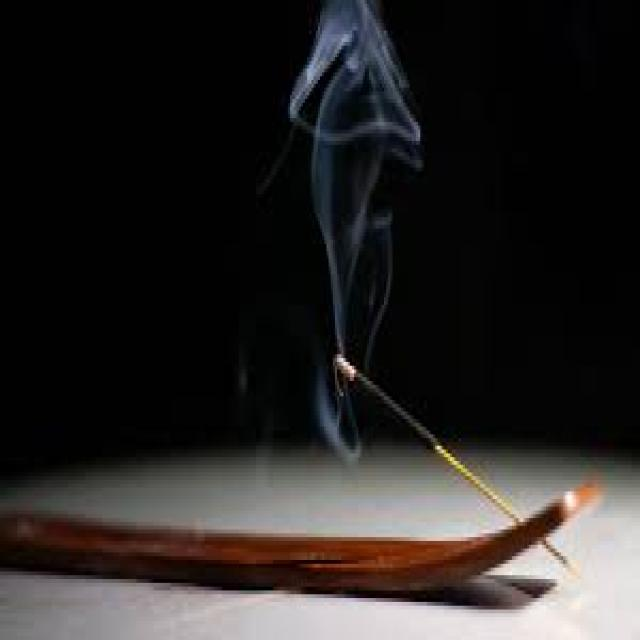Agarbatti: (324, 332, 513, 513)
